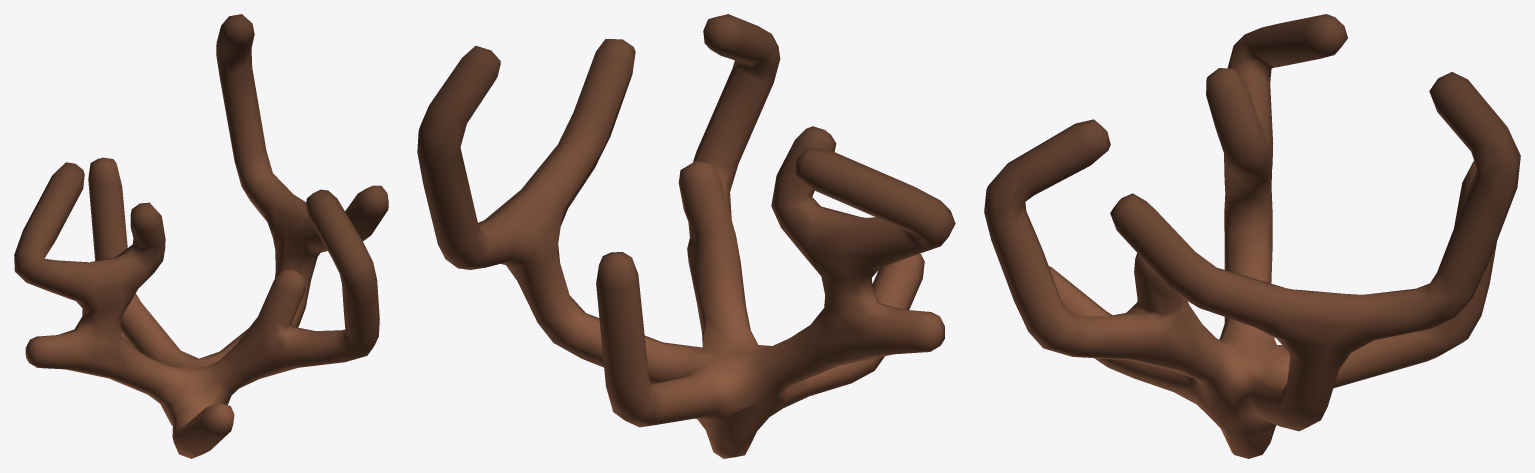
The model's file is Vera_3D-Model_DeadBush_C_UP.fbx.
3 renders of one model, left to right at view 1: azimuth 30°, elevation 25°; view 2: azimuth 150°, elevation 25°; view 3: azimuth 270°, elevation 25°, orthographic. The views are drawn at different scales.
Parts seen in each view (by area): view 1: Cube.002; view 2: Cube.002; view 3: Cube.002.
Part boxes in pixels (left/top/right/bottom): Cube.002: left=14, top=14, right=388, bottom=458; Cube.002: left=417, top=14, right=955, bottom=458; Cube.002: left=984, top=14, right=1520, bottom=458.
Size of the model in its own units: 473 by 485 by 512.
1 material, 1 textured.
